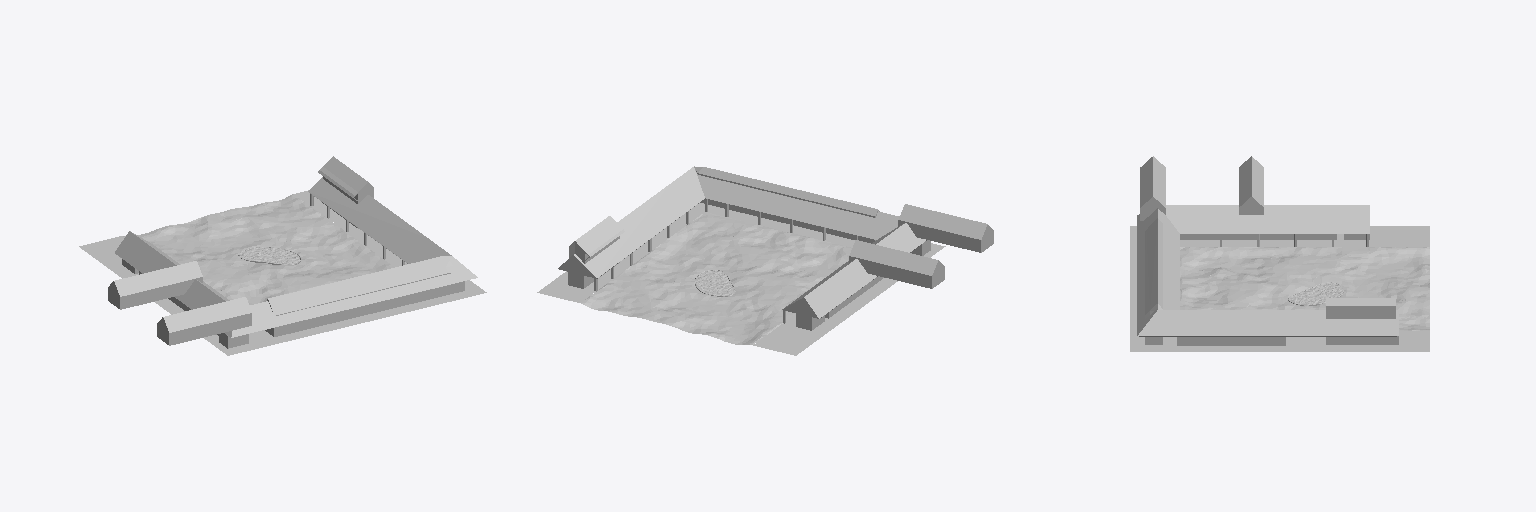
Rendered from bushcourt.obj.
3 renders of one model, left to right at view 1: azimuth 30°, elevation 25°; view 2: azimuth 150°, elevation 25°; view 3: azimuth 270°, elevation 25°, orthographic.
Parts seen in each view (by area): view 1: Cube.017_Cube.066; view 2: Cube.017_Cube.066; view 3: Cube.017_Cube.066.
Boxes of the visible parts, x1,y1,x2,y2 form: Cube.017_Cube.066: [79, 156, 486, 355]; Cube.017_Cube.066: [537, 166, 993, 355]; Cube.017_Cube.066: [1130, 156, 1429, 351].
Size of the model in its own units: 232 by 34.53 by 192.